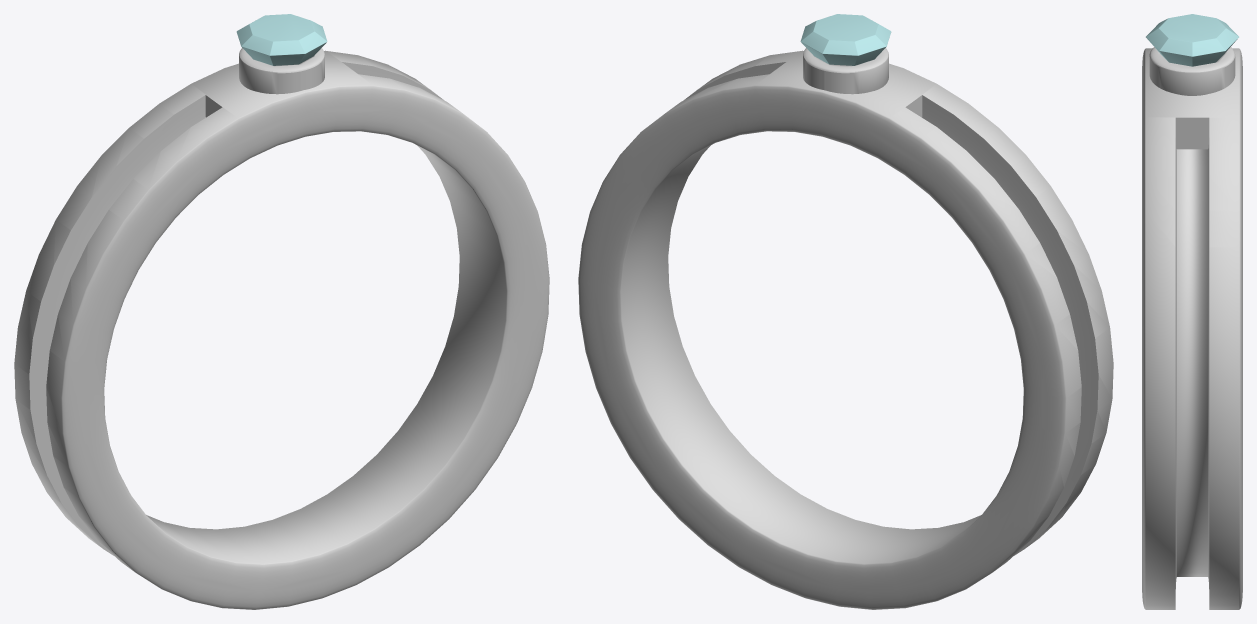
The model's file is Diamond Ring.fbx.
3 views of the same model, side by side, from view 1: azimuth 30°, elevation 25°; view 2: azimuth 150°, elevation 25°; view 3: azimuth 270°, elevation 25° (orthographic).
Parts seen in each view (by area): view 1: Cylinder.002; view 2: Cylinder.002; view 3: Cylinder.002.
Boxes of the visible parts, <box> form: Cylinder.002: <box>14,14,549,609</box>; Cylinder.002: <box>578,14,1113,609</box>; Cylinder.002: <box>1142,14,1242,609</box>.
Bounding box in the file's own units: 187 × 204 × 33.55.
